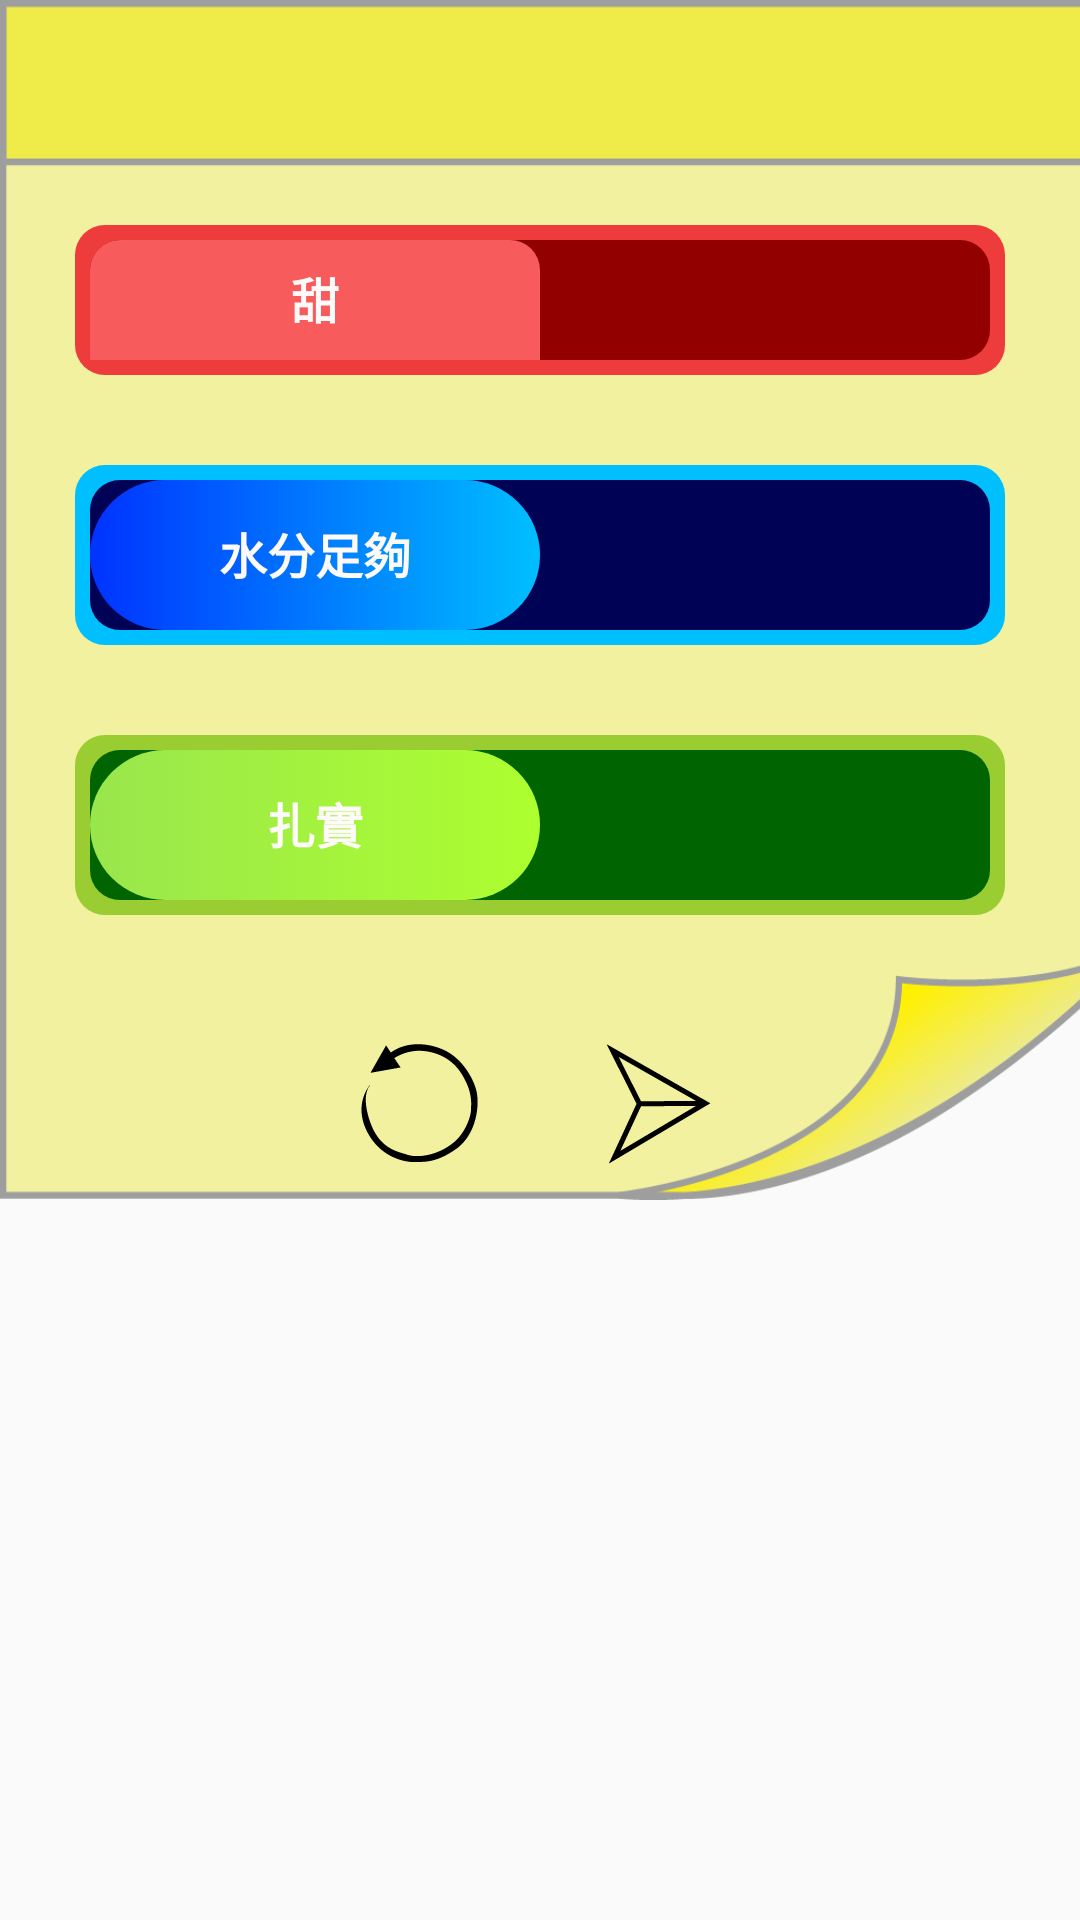

Point at icon controls on the screen. Image size 1080px×1920px, points as (x=x, y=y).
checkback: (x=419, y=1103)
checkgo: (x=658, y=1104)
